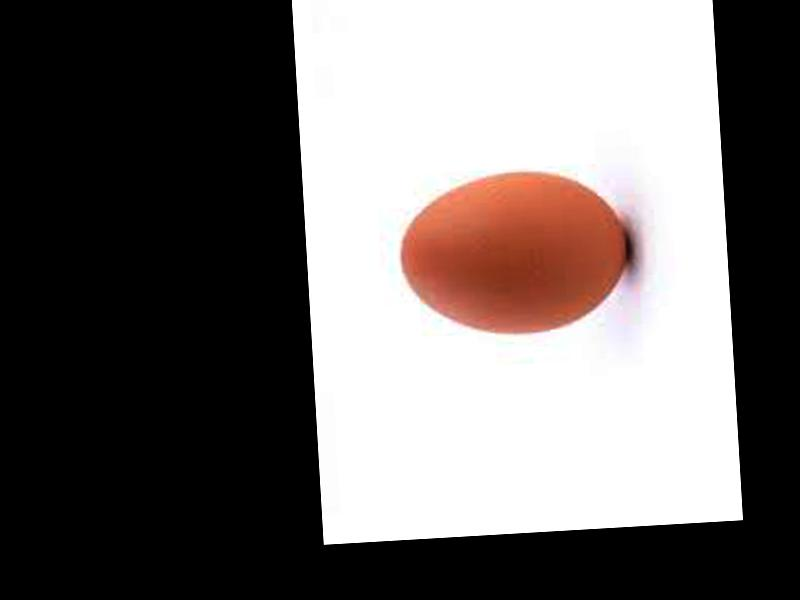Eggs: (396, 166, 631, 342)
